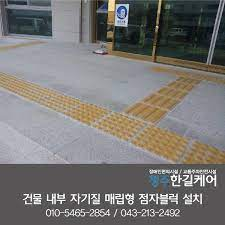guide_blocks: (59, 99, 139, 139), (122, 76, 199, 117), (1, 73, 55, 107)
